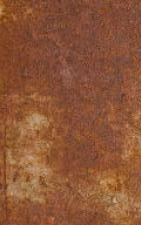Corrosion: (1, 1, 141, 225)
